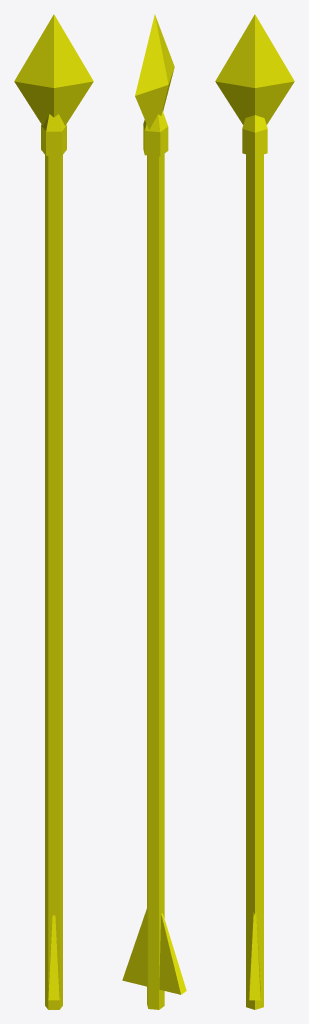
File: _arrow_c_9.glb
3 views of the same model, side by side, from view 1: azimuth 90°, elevation 25°; view 2: azimuth 150°, elevation 25°; view 3: azimuth 270°, elevation 25° (orthographic).
Parts seen in each view (by area): view 1: arrow_c_9; view 2: arrow_c_9; view 3: arrow_c_9.
Part boxes in pixels (x1,y1,x2,y2): arrow_c_9: (14, 14, 93, 1009); arrow_c_9: (122, 14, 186, 1009); arrow_c_9: (215, 14, 294, 1009).
Bounding box in the file's own units: 1242 × 19989 × 1454.
